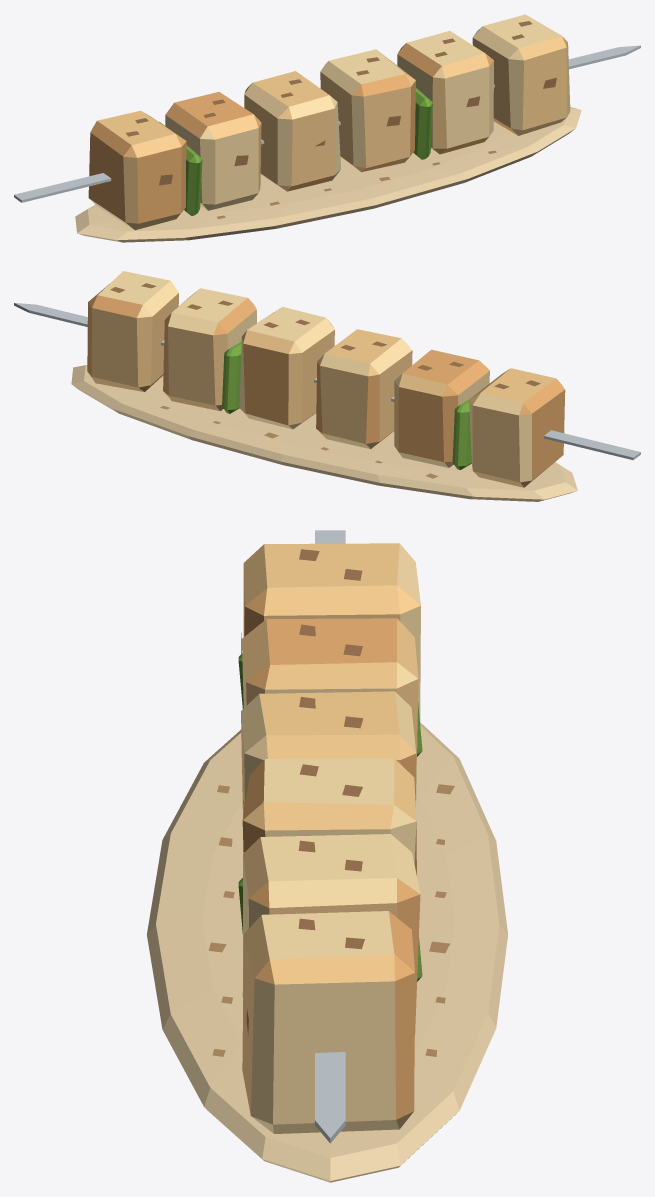
File: chicken-skewer.glb
The picture shows the model from 3 angles, top to bottom: view 1: azimuth 30°, elevation 25°; view 2: azimuth 150°, elevation 25°; view 3: azimuth 270°, elevation 25°; orthographic projection. The views are drawn at different scales.
Parts seen in each view (by area): view 1: chicken-skewer; view 2: chicken-skewer; view 3: chicken-skewer.
Part boxes in pixels (<box>): chicken-skewer: <box>14,14,640,242</box>; chicken-skewer: <box>14,271,640,501</box>; chicken-skewer: <box>147,530,507,1182</box>.
Bounding box in the file's own units: 0.6 × 0.0944 × 0.1507.
